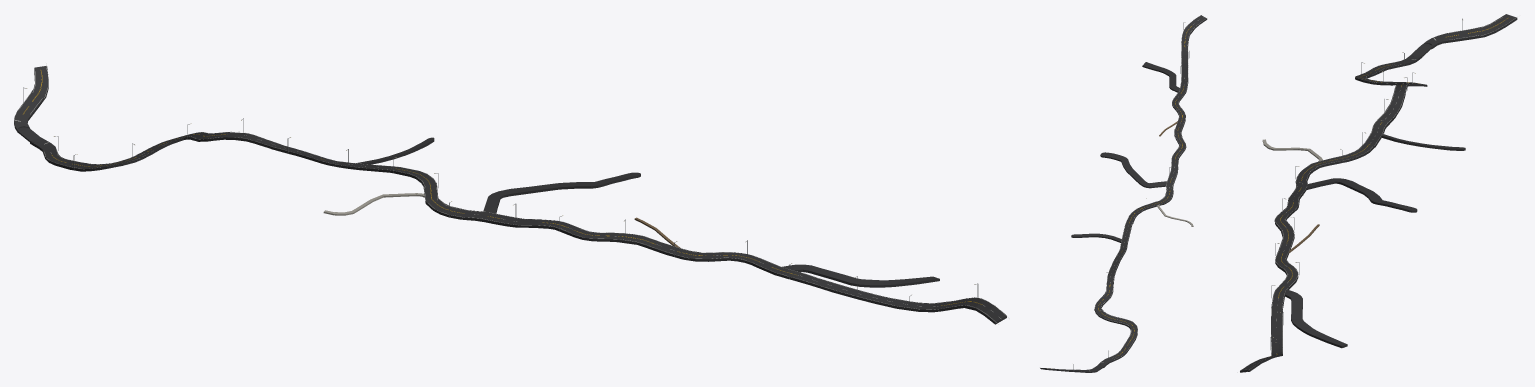
3 renders of one model, left to right at view 1: azimuth 30°, elevation 25°; view 2: azimuth 150°, elevation 25°; view 3: azimuth 330°, elevation 25°, orthographic. The views are drawn at different scales.
Size of the model in its own units: 225 by 84.5 by 589.
